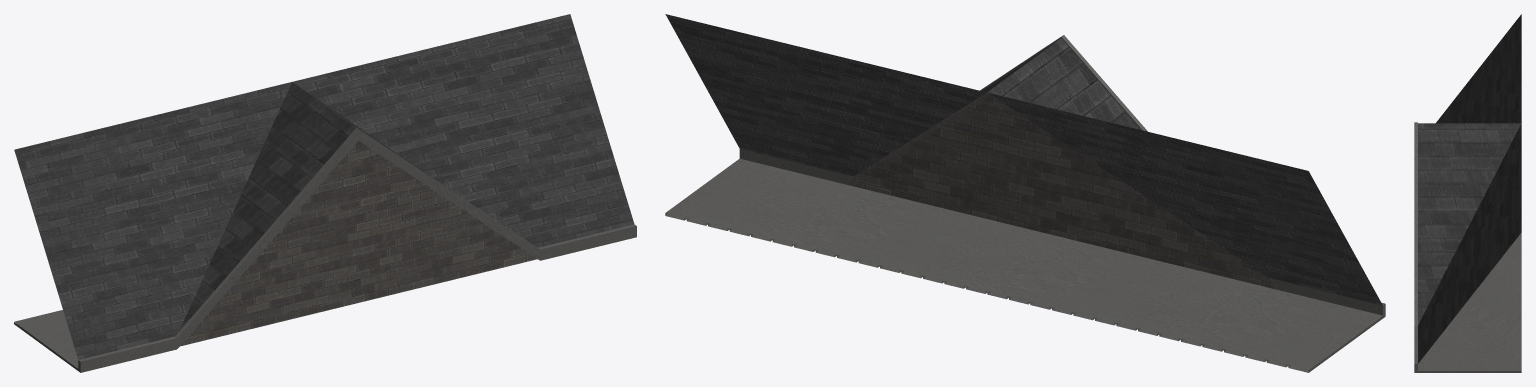
The model's file is Sm_Roof01e.fbx.
3 renders of one model, left to right at view 1: azimuth 30°, elevation 25°; view 2: azimuth 150°, elevation 25°; view 3: azimuth 270°, elevation 25°, orthographic. The views are drawn at different scales.
Parts seen in each view (by area): view 1: Sm_Roof01e; view 2: Sm_Roof01e; view 3: Sm_Roof01e.
Part boxes in pixels (x1=…): Sm_Roof01e: x1=14, y1=14, x2=636, y2=372; Sm_Roof01e: x1=665, y1=14, x2=1385, y2=372; Sm_Roof01e: x1=1414, y1=14, x2=1521, y2=372.
Size of the model in its own units: 500 by 104 by 151.
Materials: 3 (3 with a texture image).
